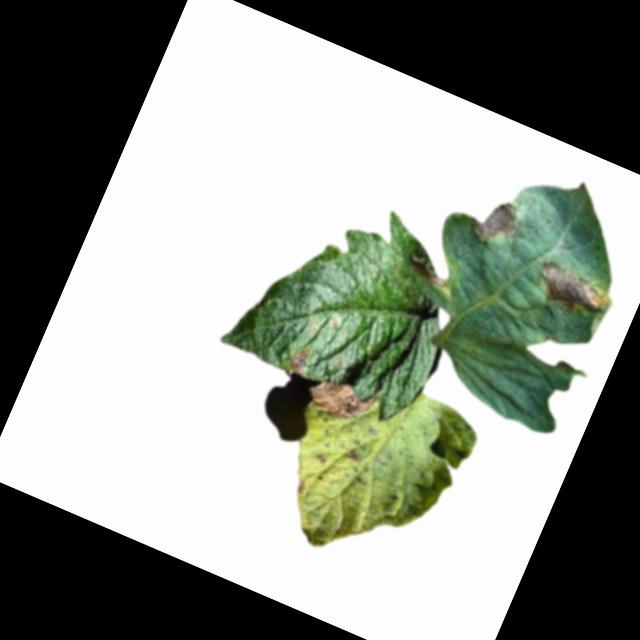Early_blight: (528, 255, 613, 325), (304, 370, 382, 432), (463, 192, 527, 257), (402, 251, 454, 289), (284, 341, 313, 376), (347, 450, 363, 463)
